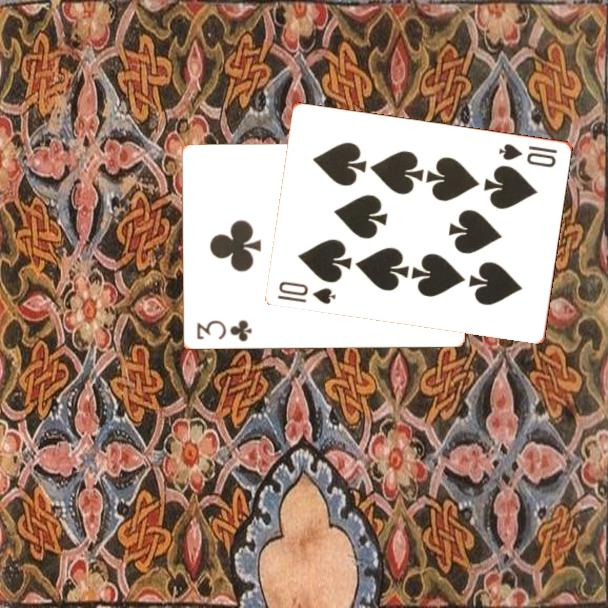c03: (193, 317, 254, 345)
s10: (496, 140, 560, 170), (274, 278, 339, 307)
